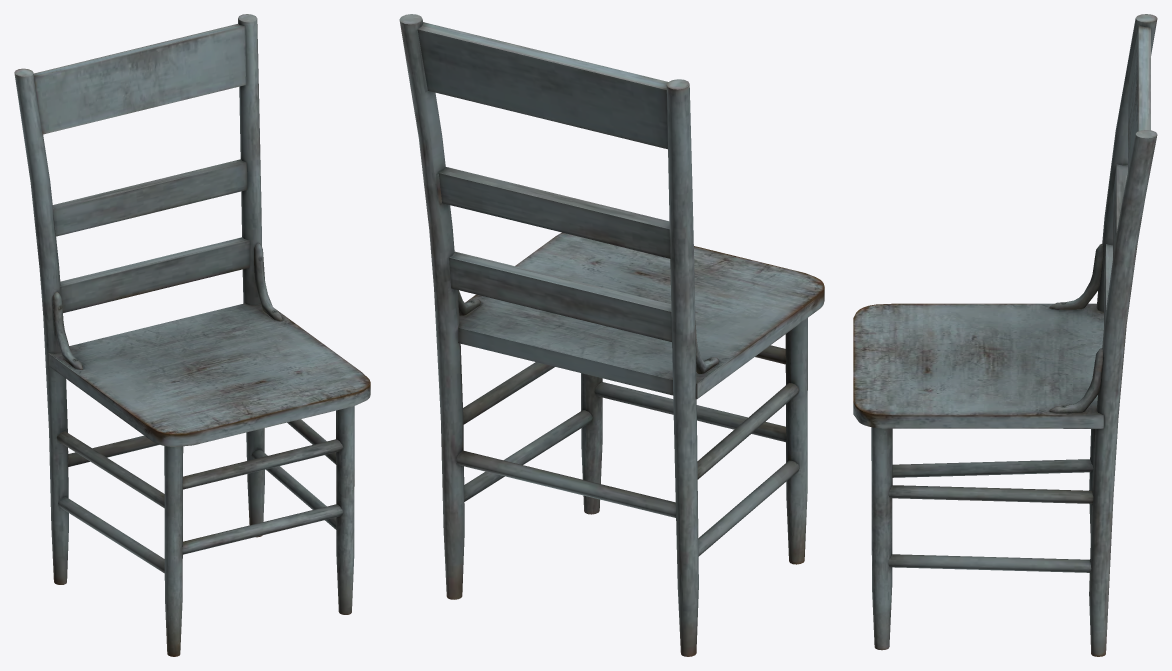
File: blue-chair.glb
3 renders of one model, left to right at view 1: azimuth 30°, elevation 25°; view 2: azimuth 150°, elevation 25°; view 3: azimuth 270°, elevation 25°, orthographic. The views are drawn at different scales.
Parts seen in each view (by area): view 1: painted_wooden_chair_02; view 2: painted_wooden_chair_02; view 3: painted_wooden_chair_02.
Boxes of the visible parts, left/top/right/bottom form: painted_wooden_chair_02: left=14, top=14, right=370, bottom=656; painted_wooden_chair_02: left=399, top=14, right=824, bottom=656; painted_wooden_chair_02: left=853, top=14, right=1157, bottom=656.
Size of the model in its own units: 0.6394 by 1.26 by 0.6605.
Materials: 1 (1 with a texture image).
